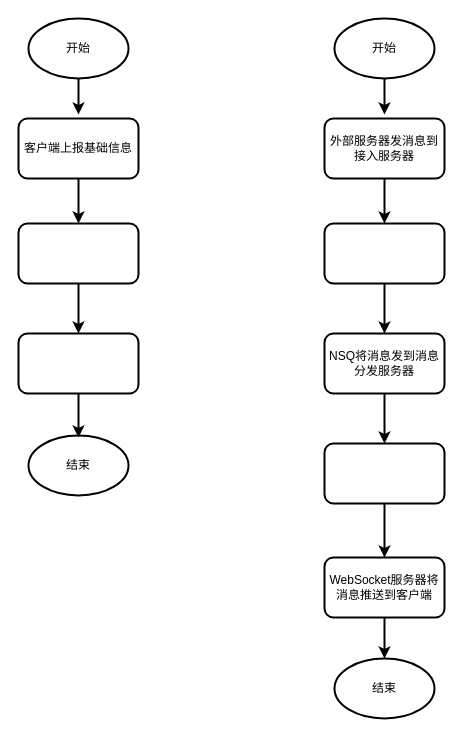
This 462x736 diagram has some shape labels left out. The centre of each missing label's shape, as x and y in pixels:
"WebSocket服务器转存基础信息到Redis" belongs at [78,363].
"接入服务器将消息存进NSQ" belongs at [384,253].
"消息分发服务器读取Redis转发消息给WebSocket服务器" belongs at [384,473].
"负载均衡服务器转发请求" belongs at [78,253].
